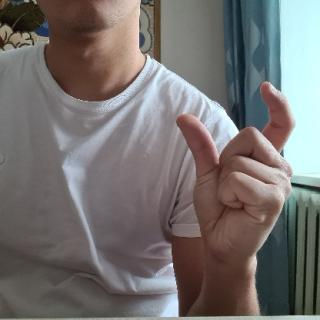NOON: (174, 79, 299, 262)
